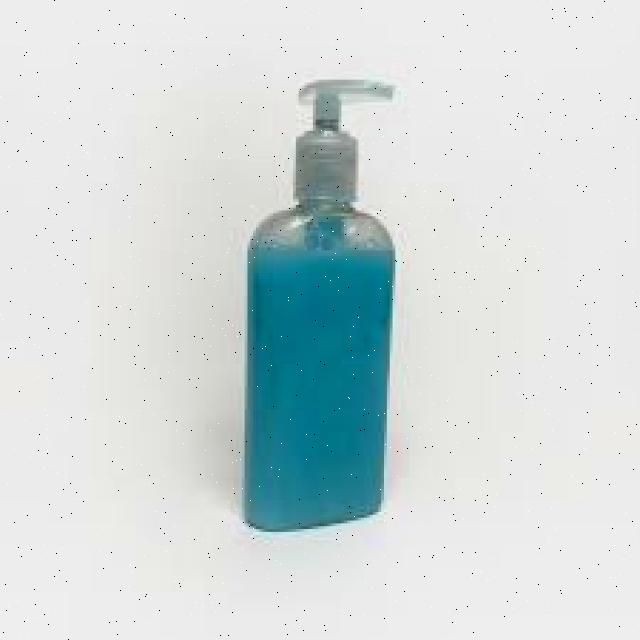liquid soap: (246, 71, 406, 532)
